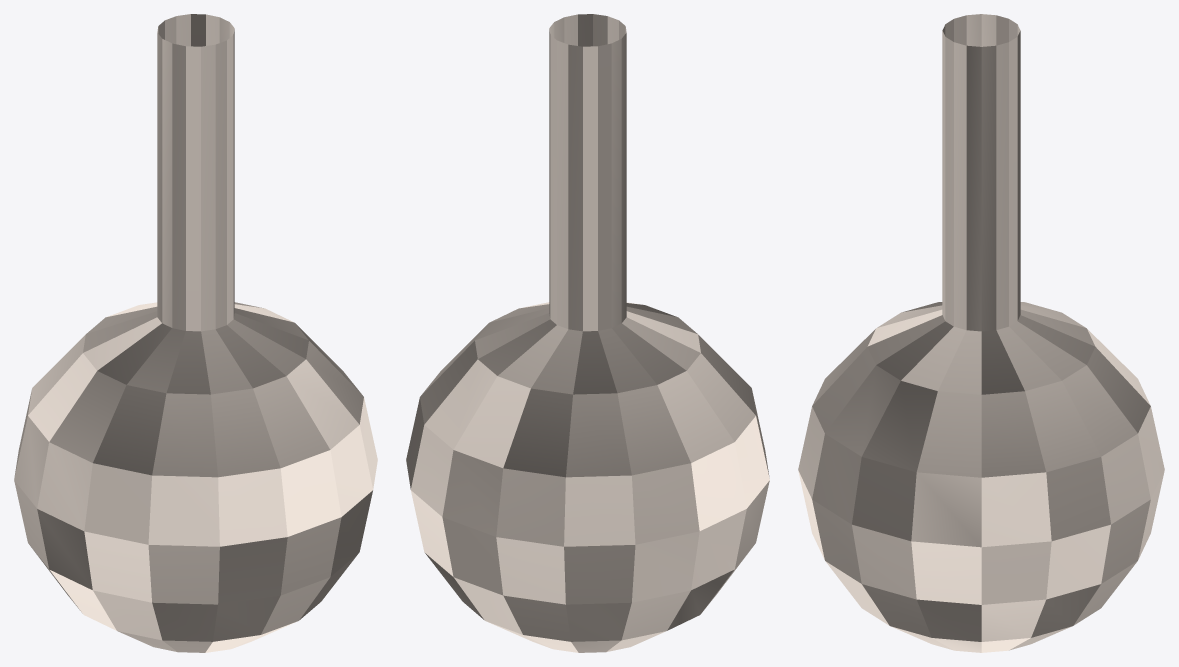
File: ToasterLever_12_ToasterLever_12_1_GeomSubset_2.obj
The picture shows the model from 3 angles, left to right: view 1: azimuth 30°, elevation 25°; view 2: azimuth 150°, elevation 25°; view 3: azimuth 270°, elevation 25°; orthographic projection.
Visible parts, largest first — view 1: ToasterLever_12_ToasterLever_12_1_GeomSubset_2; view 2: ToasterLever_12_ToasterLever_12_1_GeomSubset_2; view 3: ToasterLever_12_ToasterLever_12_1_GeomSubset_2.
Boxes of the visible parts, x1,y1,x2,y2 form: ToasterLever_12_ToasterLever_12_1_GeomSubset_2: [14, 14, 377, 652]; ToasterLever_12_ToasterLever_12_1_GeomSubset_2: [406, 14, 769, 652]; ToasterLever_12_ToasterLever_12_1_GeomSubset_2: [798, 14, 1164, 652].
Bounding box in the file's own units: 0.0237 × 0.0432 × 0.0237.
